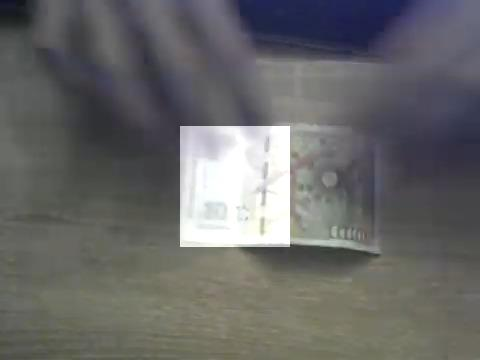10leva: (180, 126, 290, 247)
